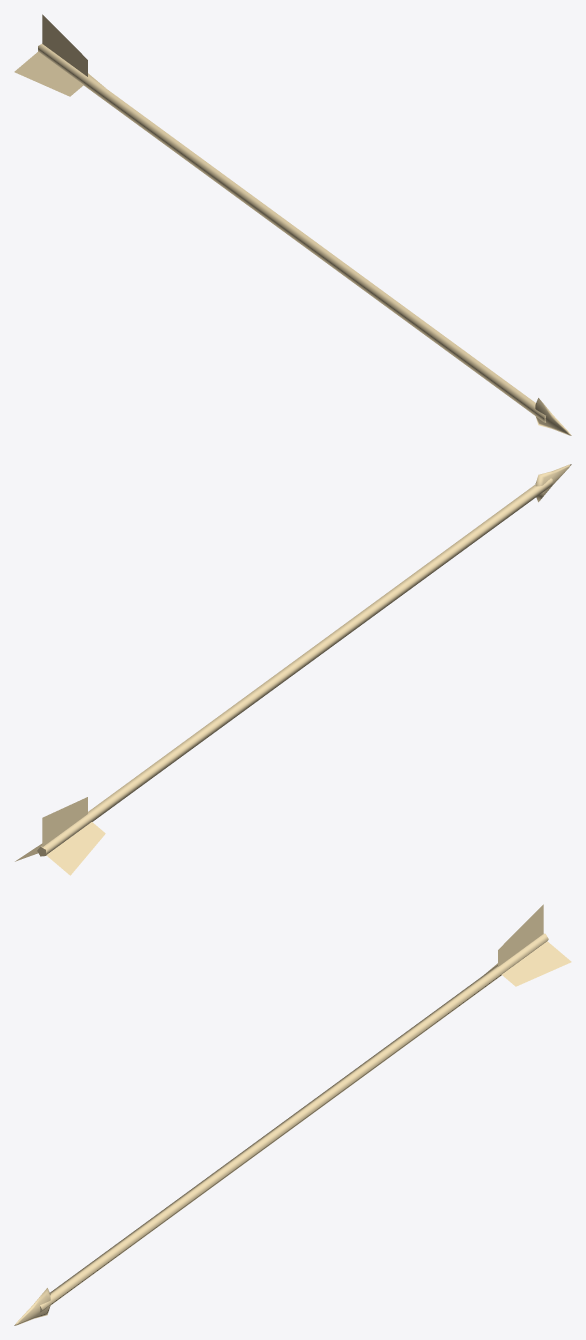
File: arrow.glb
The picture shows the model from 3 angles, top to bottom: view 1: azimuth 30°, elevation 25°; view 2: azimuth 150°, elevation 25°; view 3: azimuth 330°, elevation 25°; orthographic projection.
Parts seen in each view (by area): view 1: Arrow; view 2: Arrow; view 3: Arrow.
Boxes of the visible parts, x1,y1,x2,y2 form: Arrow: (14, 14, 571, 435); Arrow: (15, 464, 571, 875); Arrow: (14, 904, 571, 1325).
Size of the model in its own units: 0.0461 by 0.04 by 0.7504.
